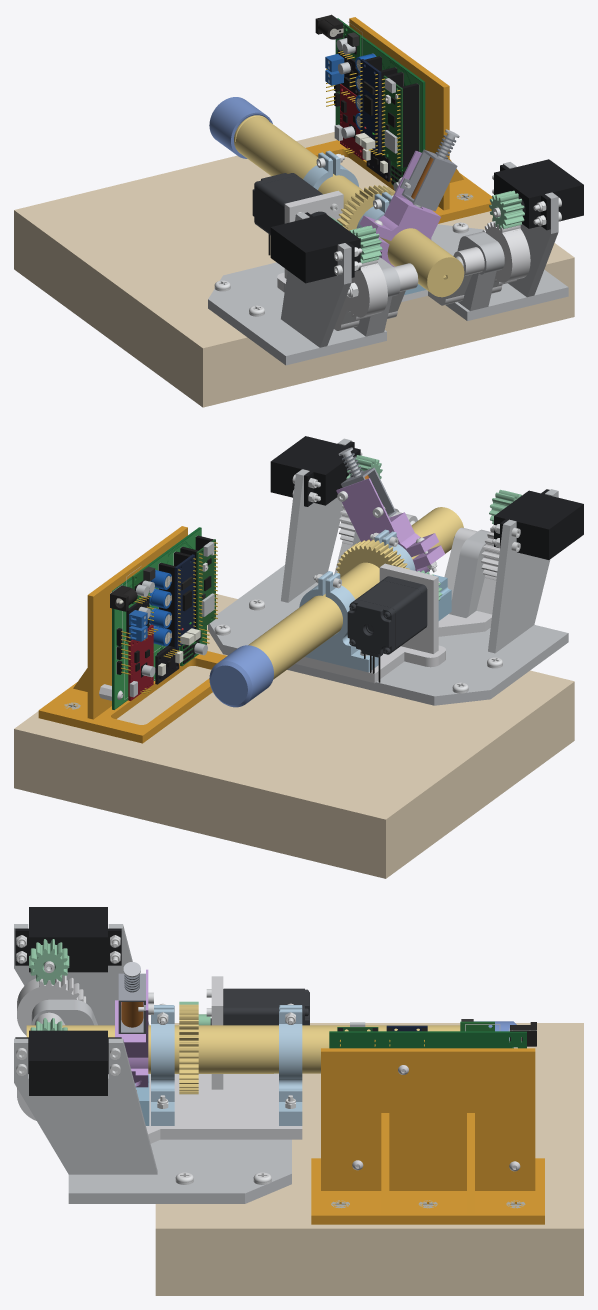
File: assembly_servos_above.glb
3 renders of one model, top to bottom at view 1: azimuth 30°, elevation 25°; view 2: azimuth 150°, elevation 25°; view 3: azimuth 270°, elevation 25°, orthographic. The views are drawn at different scales.
Visible parts, largest first — view 1: assembly_servos_above (×23); view 2: assembly_servos_above (×24); view 3: assembly_servos_above (×14).
Boxes of the visible parts, x1,y1,x2,y2 form: assembly_servos_above (×23): (14, 17, 583, 407); assembly_servos_above (×24): (14, 436, 583, 878); assembly_servos_above (×14): (14, 907, 583, 1295).
Size of the model in its own units: 0.25 by 0.146 by 0.2927.
